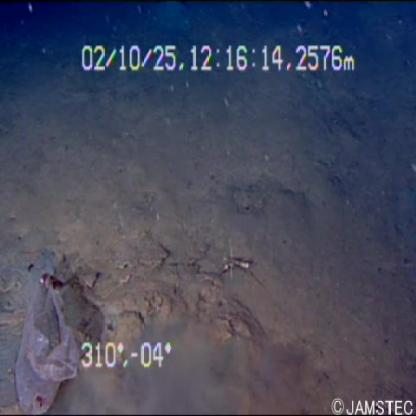Rác: (8, 257, 86, 416)
